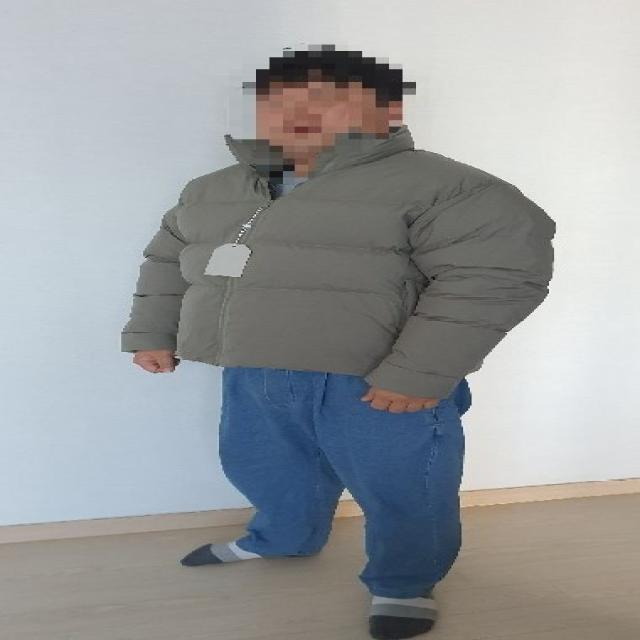denimpants: (219, 364, 469, 597)
padding: (116, 133, 562, 398)
